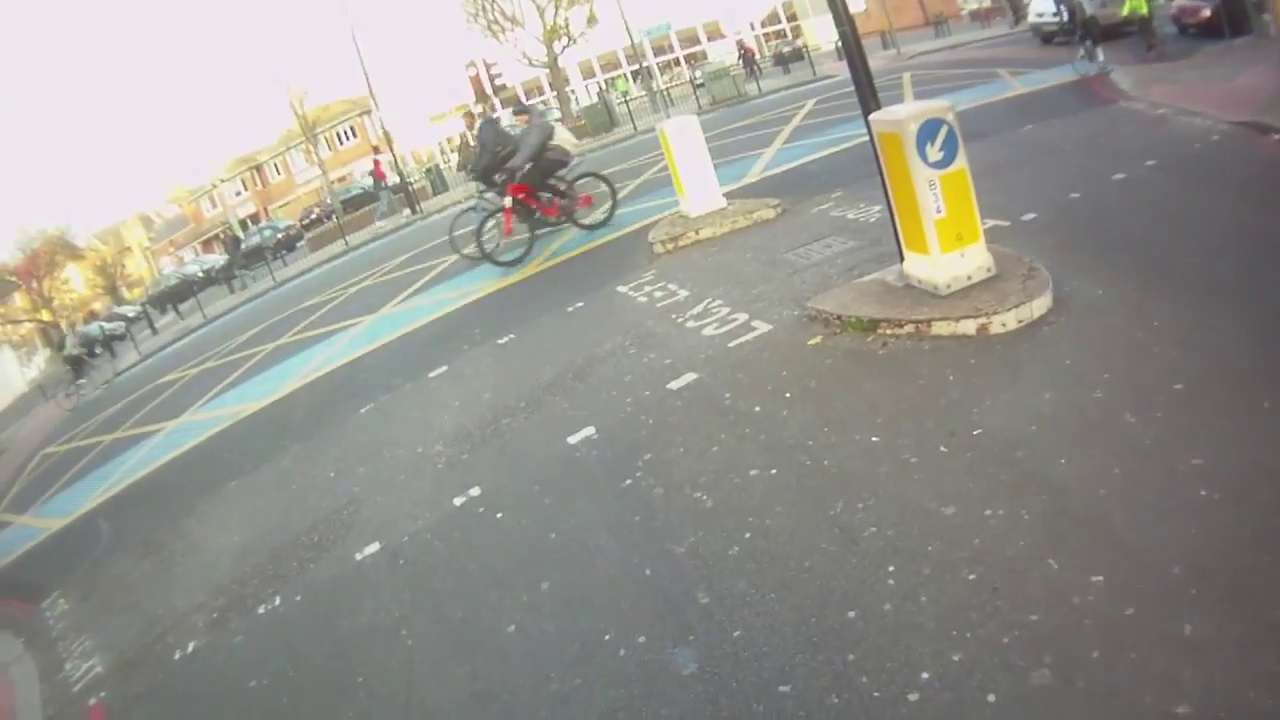cyclist_side: (474, 97, 619, 270), (48, 312, 114, 412)
